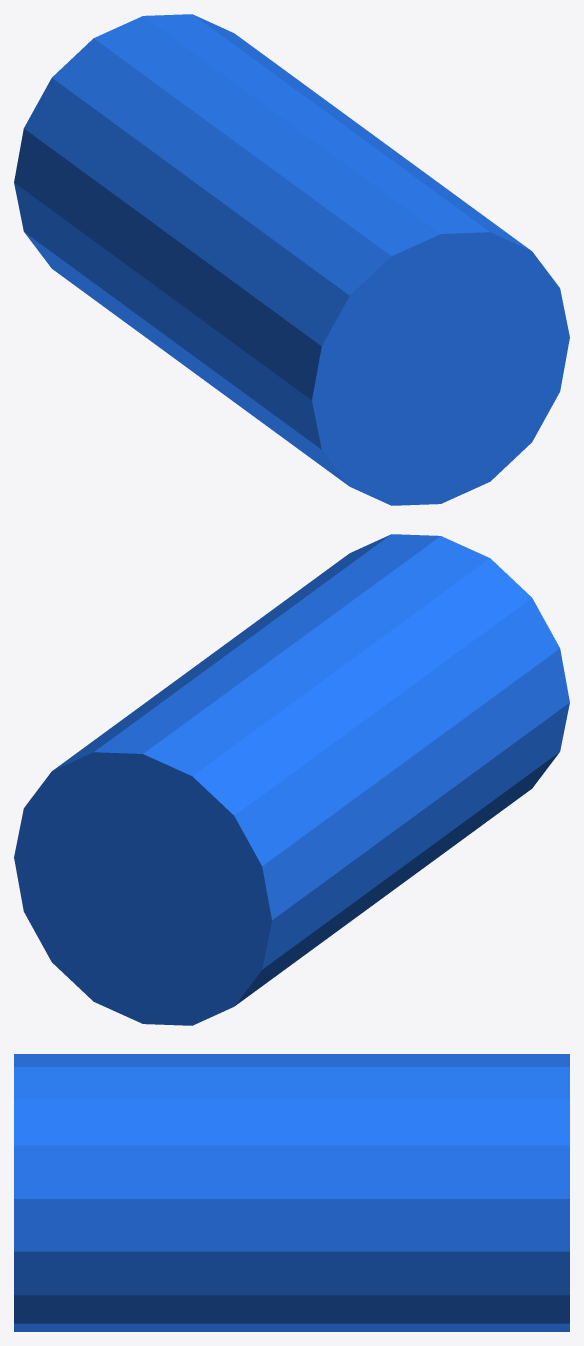
File: Beam.obj
The picture shows the model from 3 angles, top to bottom: view 1: azimuth 30°, elevation 25°; view 2: azimuth 150°, elevation 25°; view 3: azimuth 270°, elevation 25°; orthographic projection. The views are drawn at different scales.
Parts seen in each view (by area): view 1: 円柱; view 2: 円柱; view 3: 円柱.
Part boxes in pixels (left/top/right/bottom): 円柱: left=14, top=14, right=569, bottom=505; 円柱: left=14, top=534, right=569, bottom=1025; 円柱: left=14, top=1054, right=569, bottom=1331.
Size of the model in its own units: 1 by 1 by 2.
1 material, 1 textured.
